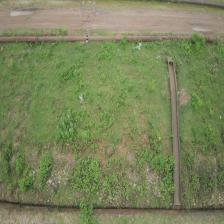slope_drain: (167, 57, 181, 209)
